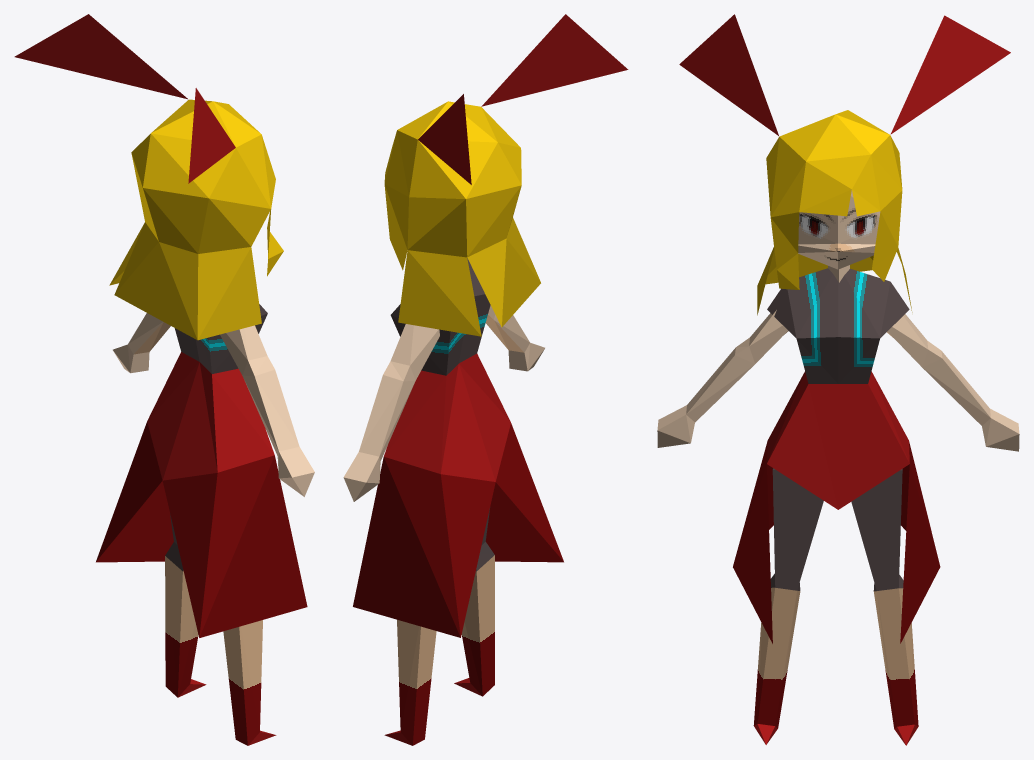
Rendered from low_poly_girl.obj.
3 renders of one model, left to right at view 1: azimuth 30°, elevation 25°; view 2: azimuth 150°, elevation 25°; view 3: azimuth 270°, elevation 25°, orthographic.
Parts seen in each view (by area): view 1: gal; view 2: gal; view 3: gal.
Boxes of the visible parts, x1,y1,x2,y2 form: gal: [14, 14, 314, 745]; gal: [343, 14, 628, 745]; gal: [657, 14, 1019, 745].
Bounding box in the file's own units: 5.5 × 20.57 × 9.85.
Materials: 1 (1 with a texture image).
